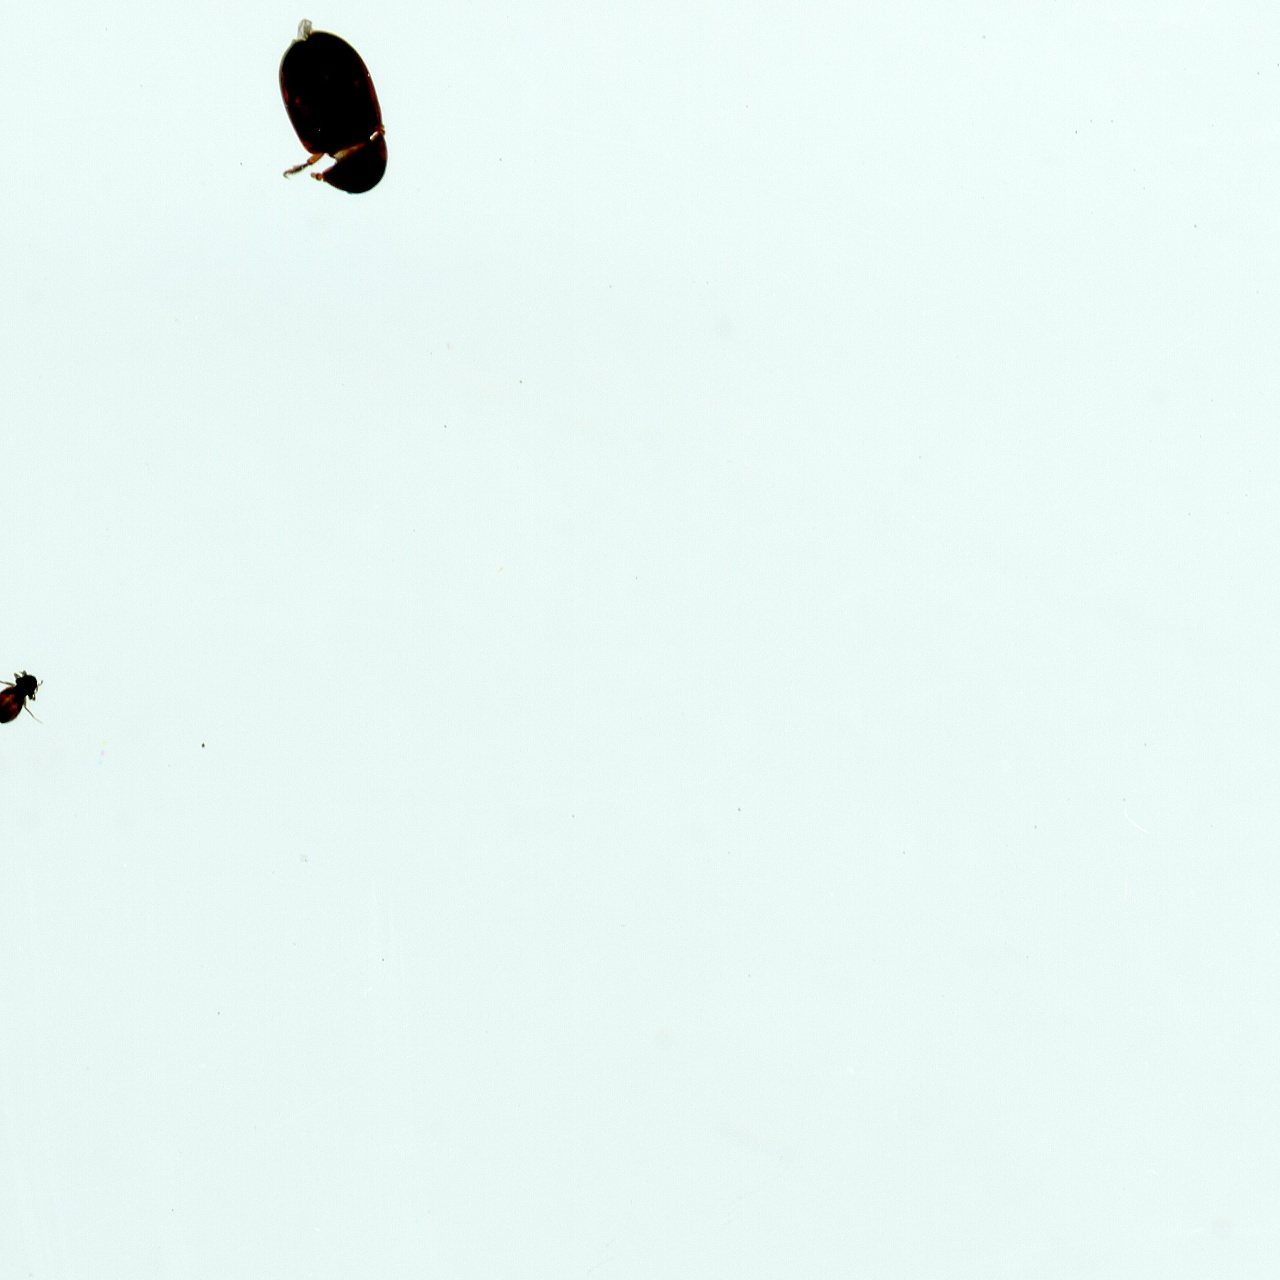arthropod: (271, 22, 398, 205), (0, 667, 45, 731)
